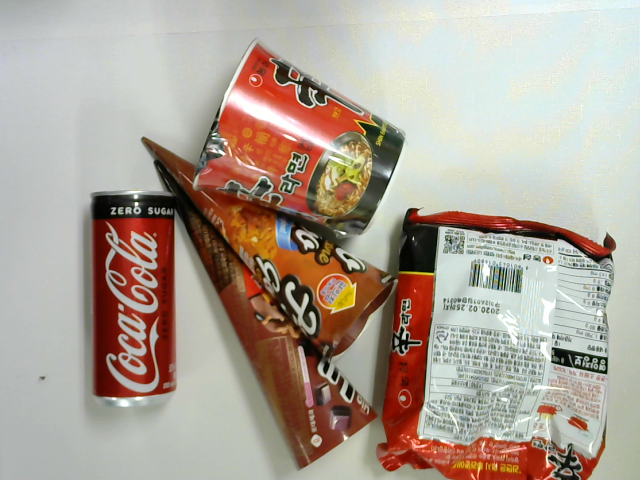Coca_Cola_Zero_Can_250ml: (83, 184, 180, 415)
GooGoo_Cone_CVS: (135, 132, 399, 361)
Sinramen: (383, 204, 621, 480)
Sinramen_small: (191, 41, 406, 237)
World_Cone_Choco: (151, 159, 379, 474)
